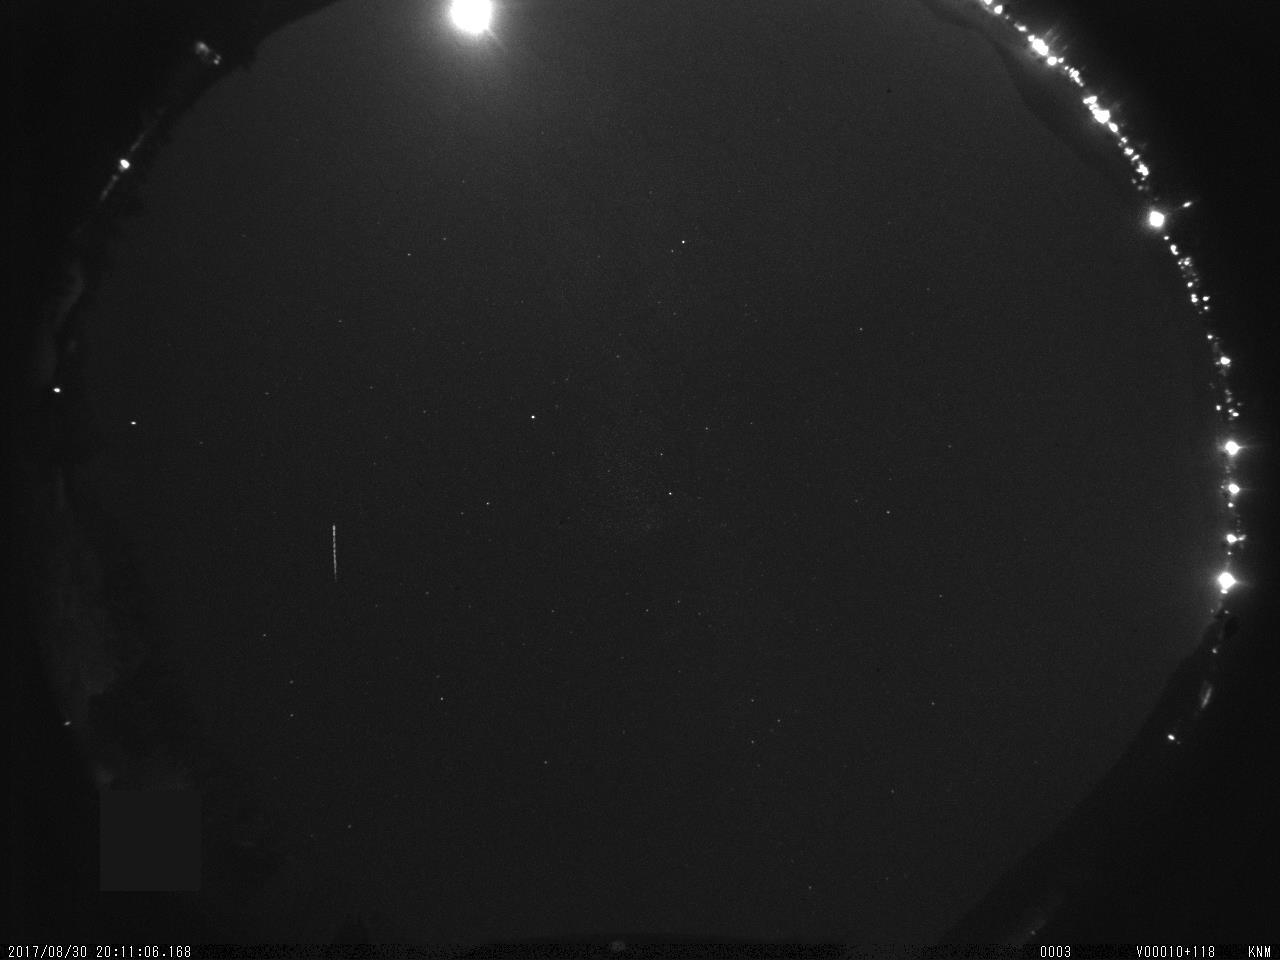meteor: (307, 511, 357, 591)
